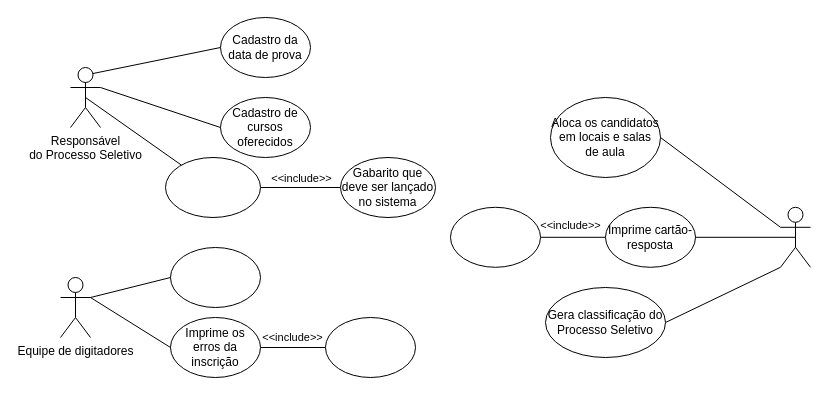
This 828x395 diagram has some shape labels left out. Each missing label, with the box of its shape:
Cadastro de fichas de inscrições: (170, 246, 260, 308)
CPD: (780, 206, 810, 267)
Leitura do cartão-resposta: (450, 206, 540, 267)
Realiza uma conferencia dos dados: (324, 316, 416, 378)
Recebimento do gabarito: (164, 156, 260, 218)
